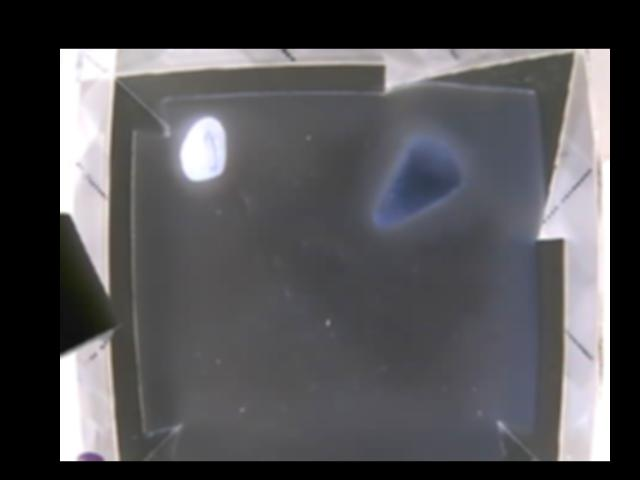Mooli: (372, 135, 463, 230)
Pebble: (179, 120, 228, 181)
